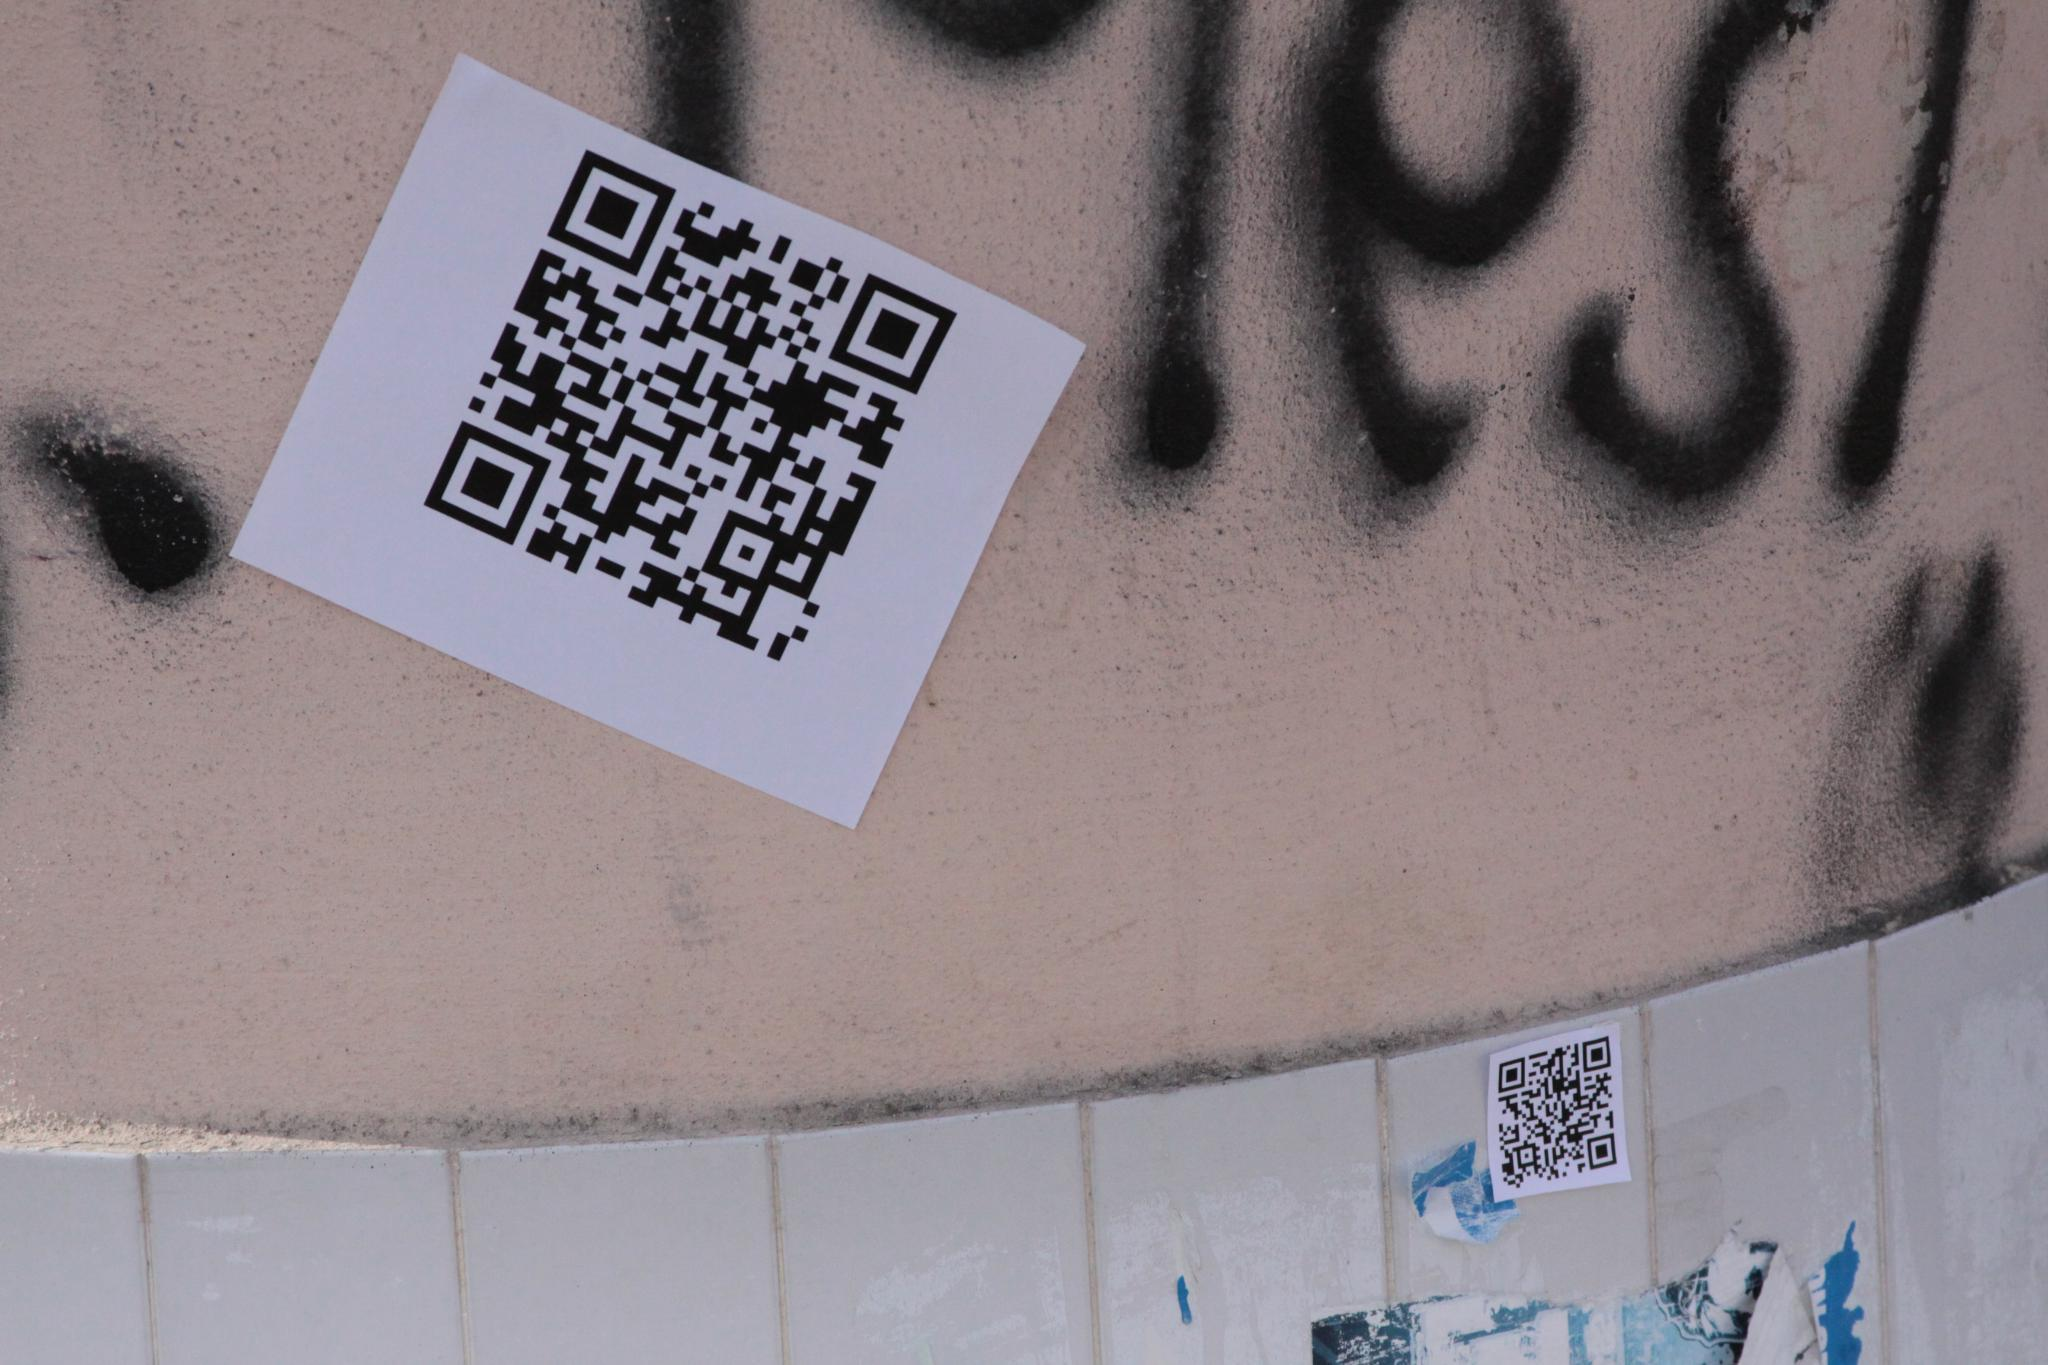Finder pattern: (815, 267, 958, 410), (419, 414, 553, 550), (538, 149, 682, 270), (1488, 1053, 1532, 1095), (1579, 1031, 1617, 1079)
